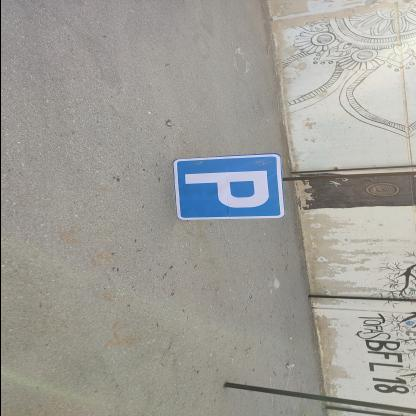Parking-Sign: (173, 155, 285, 223)
